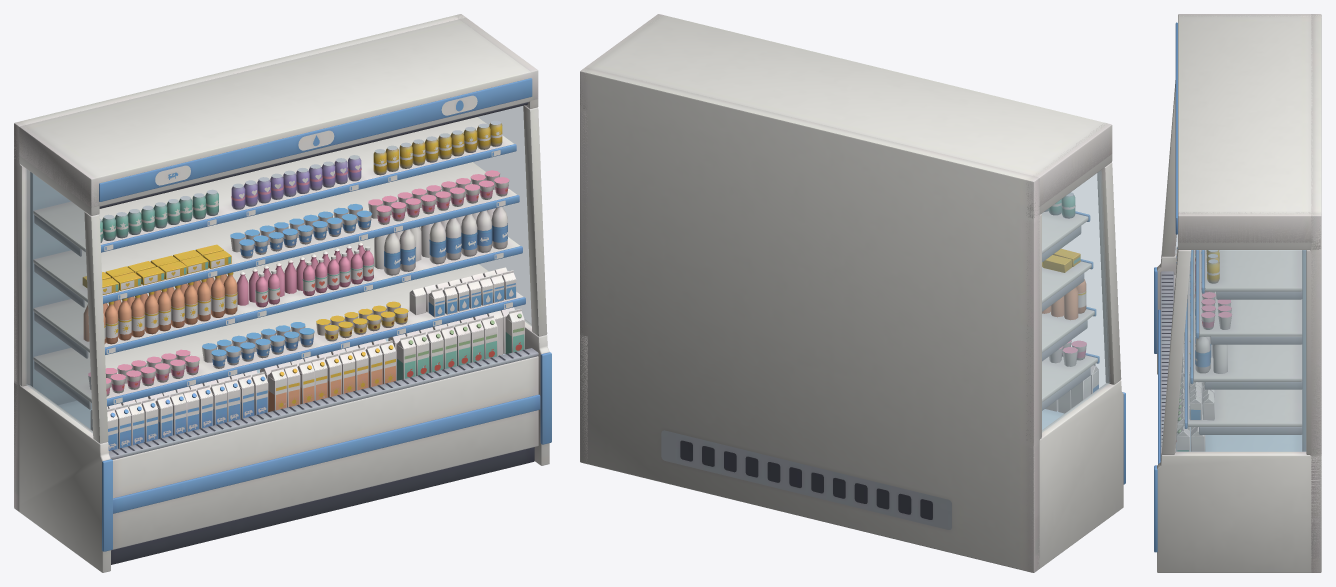
Rendered from refrigerated-display.fbx.
The picture shows the model from 3 angles, left to right: view 1: azimuth 30°, elevation 25°; view 2: azimuth 150°, elevation 25°; view 3: azimuth 270°, elevation 25°; orthographic projection. The views are drawn at different scales.
Visible parts, largest first — view 1: refrigerated-display_body, refrigerated-display_side_glass; view 2: refrigerated-display_body, refrigerated-display_side_glass; view 3: refrigerated-display_body, refrigerated-display_side_glass.
Boxes of the visible parts, x1,y1,x2,y2 form: refrigerated-display_body: (14,14,551,572); refrigerated-display_side_glass: (26,106,531,432); refrigerated-display_body: (580,14,1125,572); refrigerated-display_side_glass: (1042,170,1110,432); refrigerated-display_body: (1154,14,1321,572); refrigerated-display_side_glass: (1175,234,1305,451).
Bounding box in the file's own units: 2.51 × 2.06 × 0.8766.
4 materials, 1 textured.
